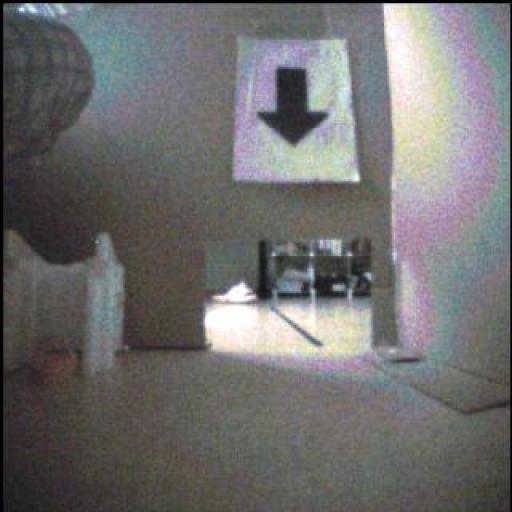arrow: (259, 68, 329, 147)
